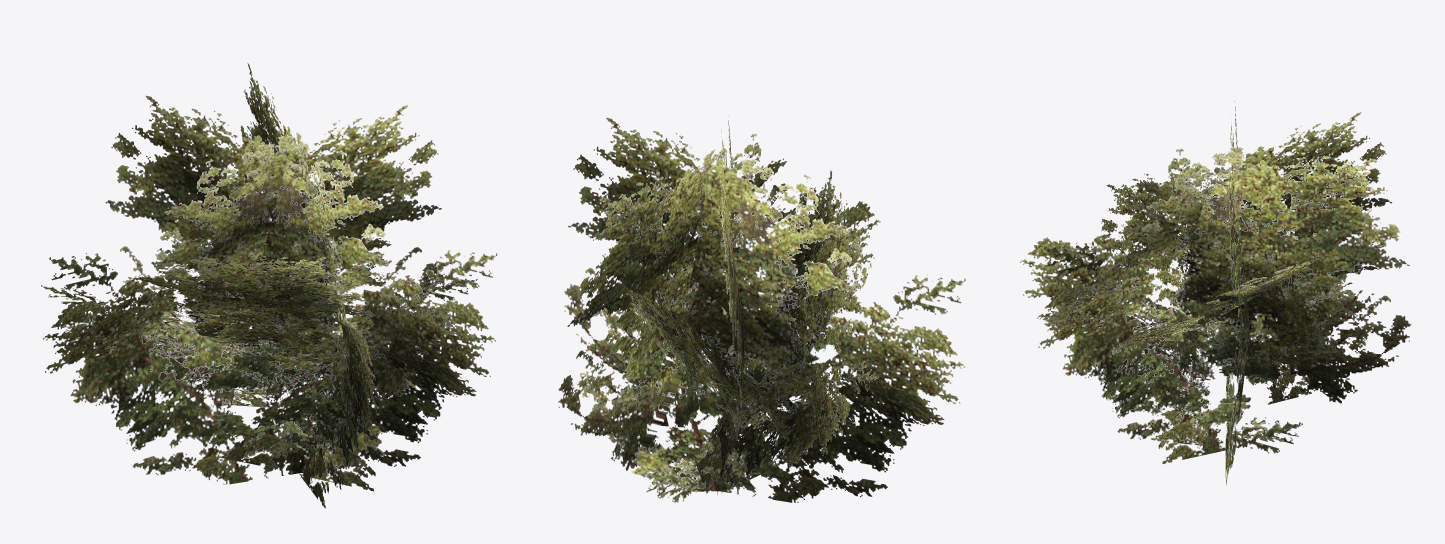
File: SM_Bush_01.fbx
3 renders of one model, left to right at view 1: azimuth 30°, elevation 25°; view 2: azimuth 150°, elevation 25°; view 3: azimuth 270°, elevation 25°, orthographic. The views are drawn at different scales.
Parts seen in each view (by area): view 1: Bush_01; view 2: Bush_01; view 3: Bush_01.
Boxes of the visible parts, x1=… form: Bush_01: x1=41, y1=63, x2=497, y2=508; Bush_01: x1=558, y1=116, x2=965, y2=502; Bush_01: x1=1019, y1=101, x2=1411, y2=484.
Size of the model in its own units: 256 by 245 by 216.
